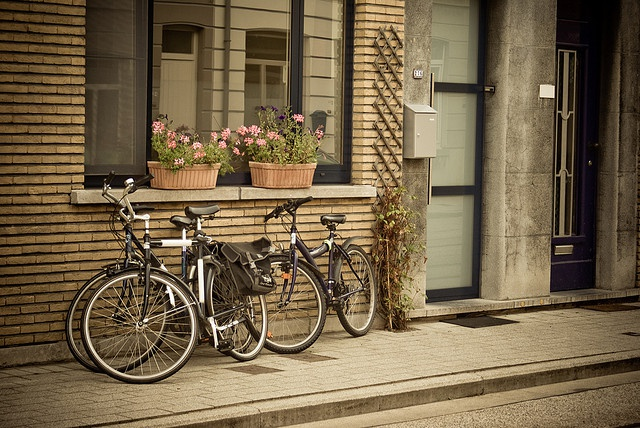non-vehicle: (85, 176, 270, 386), (65, 184, 196, 372), (265, 199, 376, 349)
